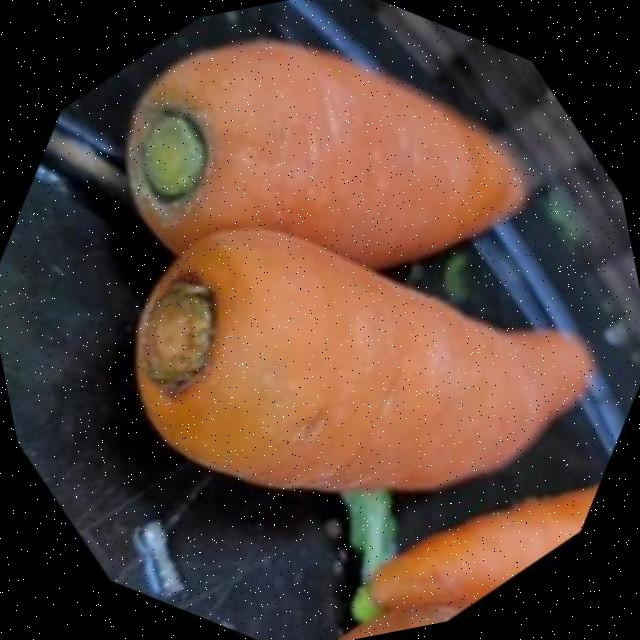carrot: (136, 229, 591, 492), (127, 41, 527, 266), (372, 488, 595, 608)
